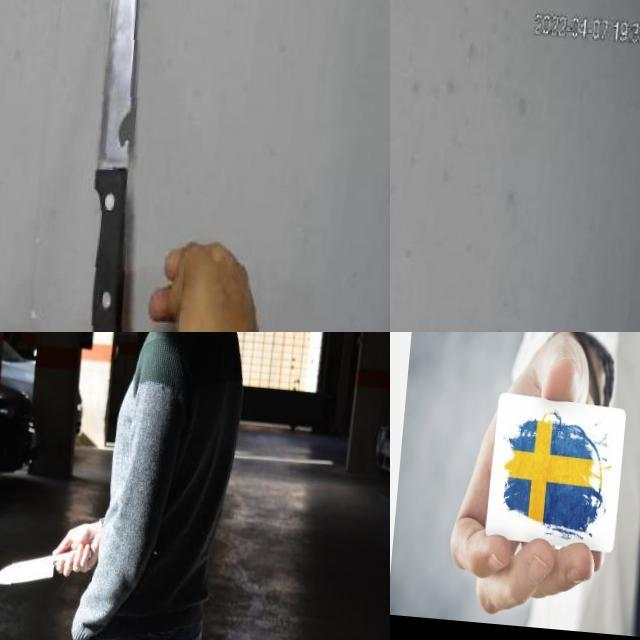-: (76, 0, 178, 332), (390, 0, 457, 332), (0, 530, 100, 589)
